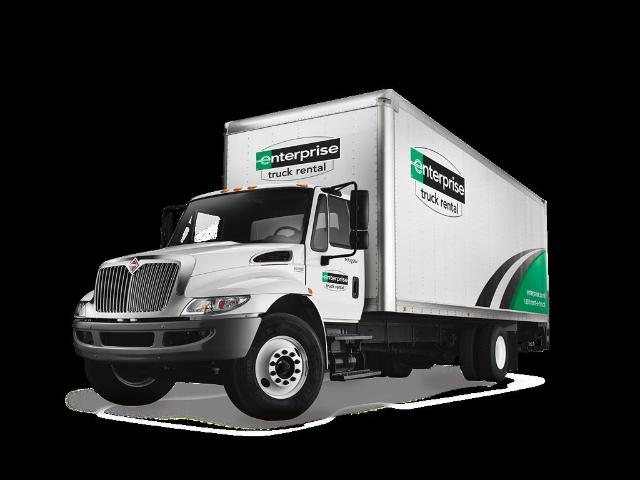truck: (69, 73, 552, 431)
